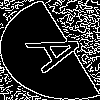A: (25, 25, 100, 75)
